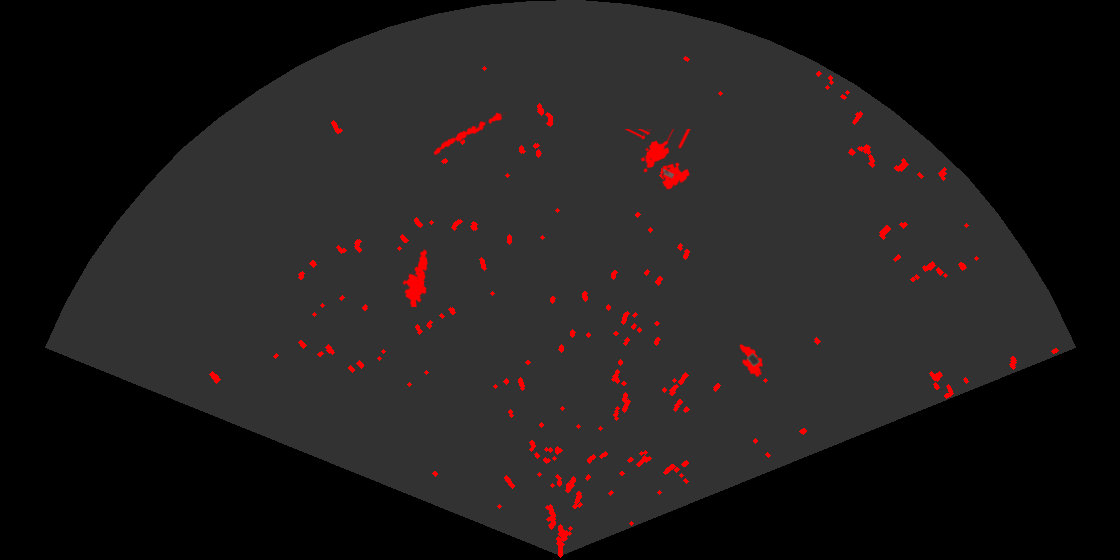AUV: (738, 342, 765, 379)
cage: (623, 129, 692, 191)
chain: (432, 110, 507, 157)
frogman: (401, 248, 429, 307)
